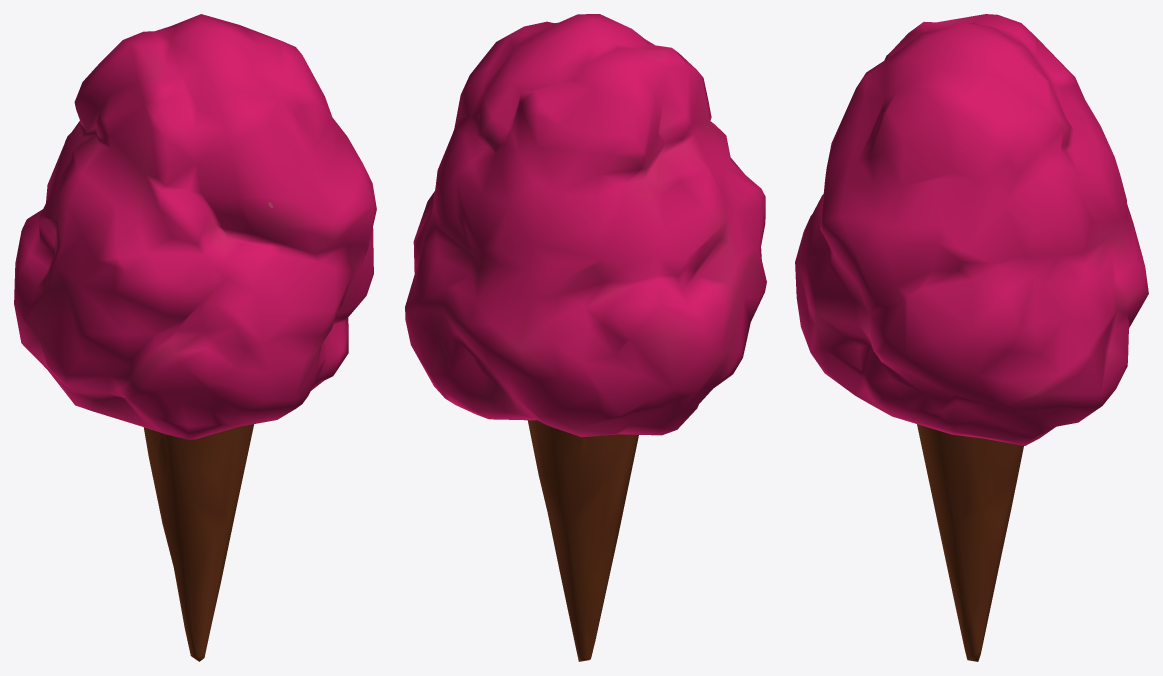
Rendered from gen3d-cotton-candy-lod0.glb.
The picture shows the model from 3 angles, left to right: view 1: azimuth 30°, elevation 25°; view 2: azimuth 150°, elevation 25°; view 3: azimuth 270°, elevation 25°; orthographic projection.
Parts seen in each view (by area): view 1: part_0; view 2: part_0; view 3: part_0.
Part boxes in pixels (x1,y1,x2,y2): part_0: (14, 14, 376, 661); part_0: (405, 14, 766, 661); part_0: (795, 14, 1148, 661).
Bounding box in the file's own units: 0.5107 × 0.9986 × 0.5035.
